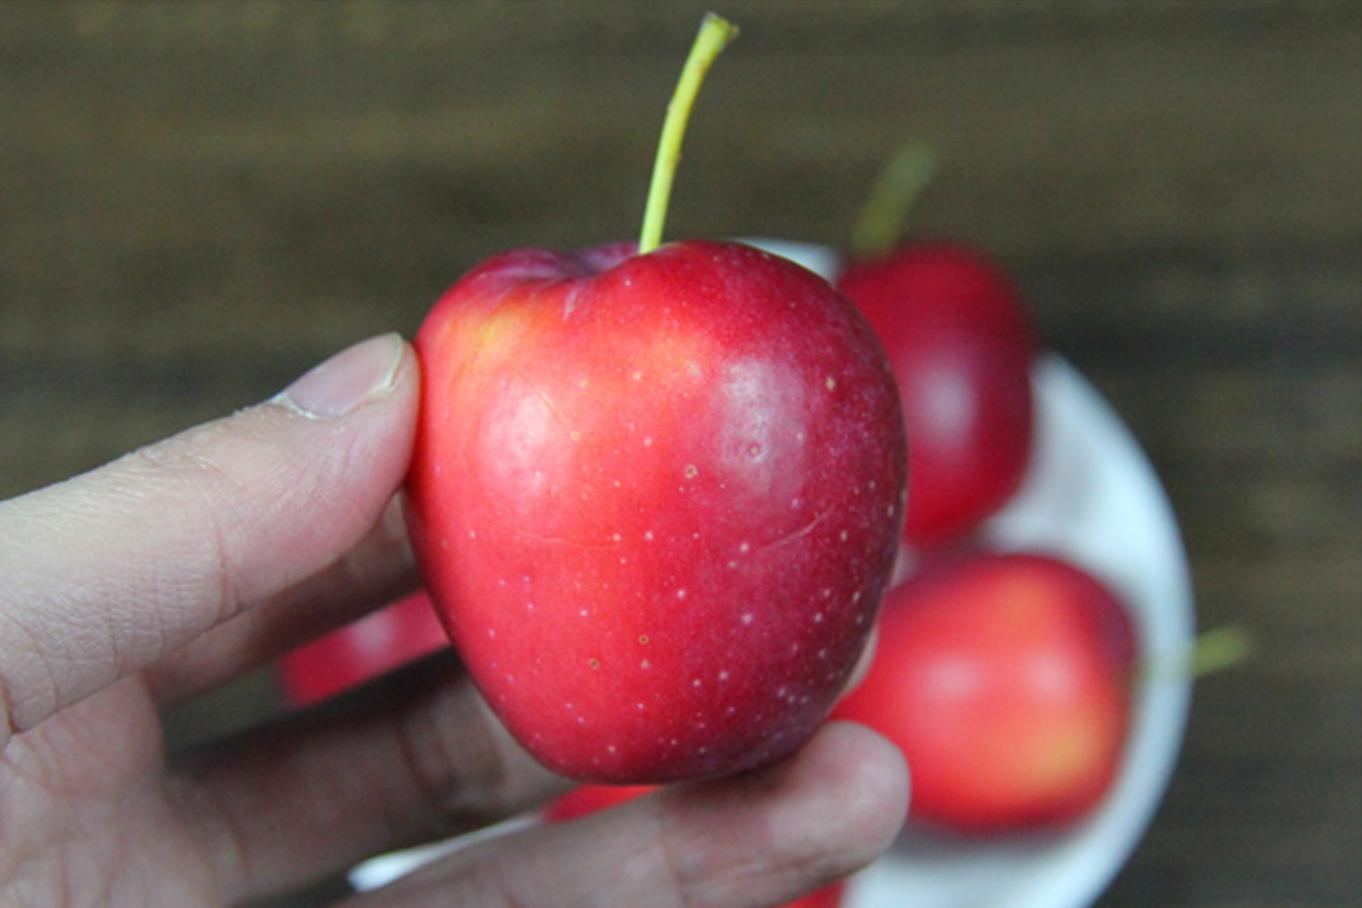apple: (403, 237, 903, 793)
